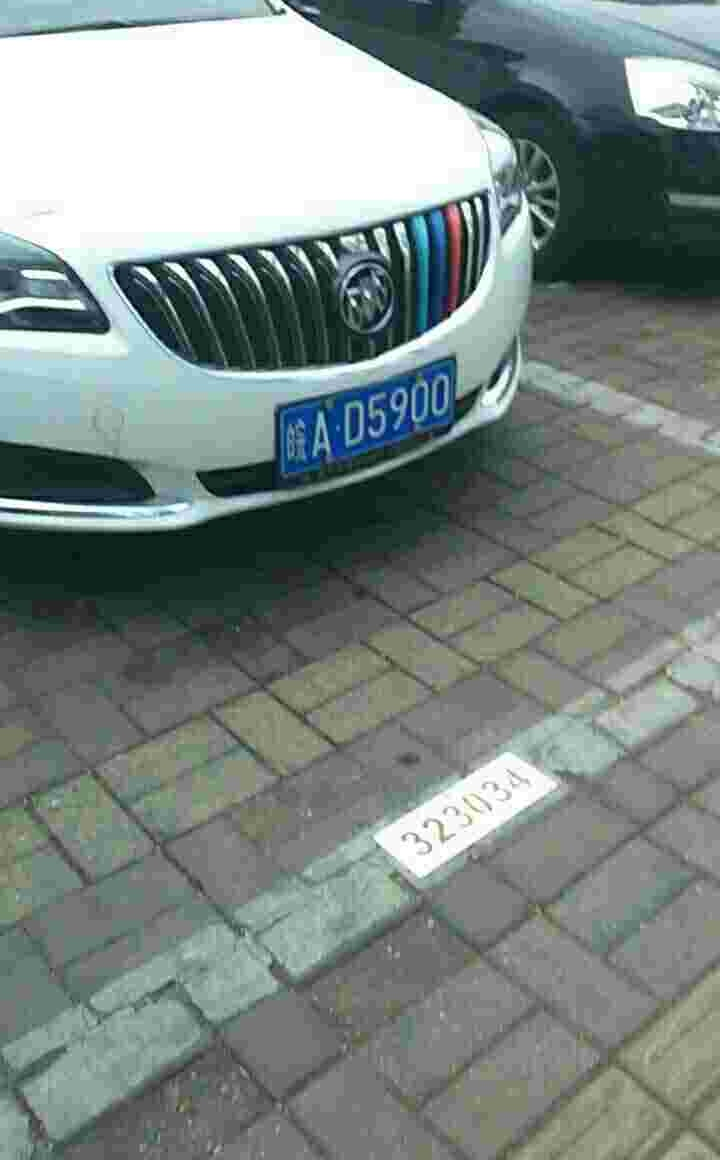license_plate: (270, 366, 461, 477)
